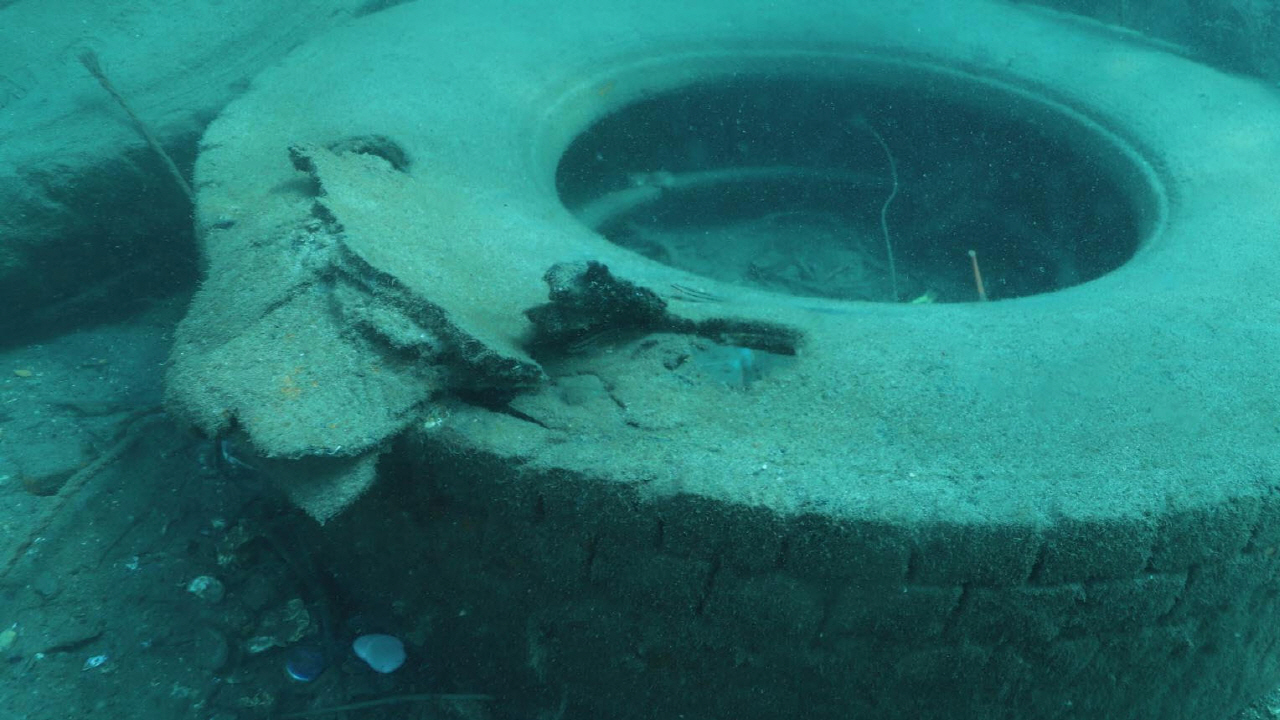tire: (198, 0, 1280, 720)
